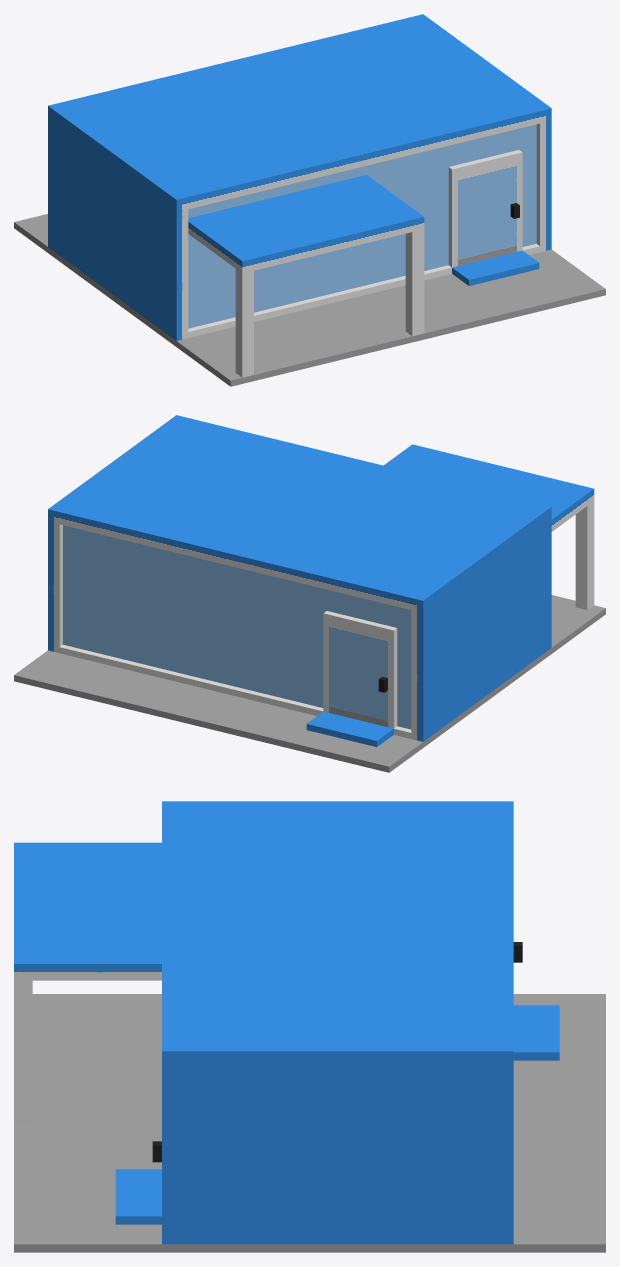
The model's file is obj_house2d.fbx.
3 renders of one model, top to bottom at view 1: azimuth 30°, elevation 25°; view 2: azimuth 150°, elevation 25°; view 3: azimuth 270°, elevation 25°, orthographic. The views are drawn at different scales.
Visible parts, largest first — view 1: obj_house2d; view 2: obj_house2d; view 3: obj_house2d.
Part boxes in pixels (x1,y1,x2,y2): obj_house2d: (14,14,605,386); obj_house2d: (14,415,605,772); obj_house2d: (14,801,605,1252).
Bounding box in the file's own units: 6.4 × 6.4 × 2.4.
Materials: 1 (1 with a texture image).
